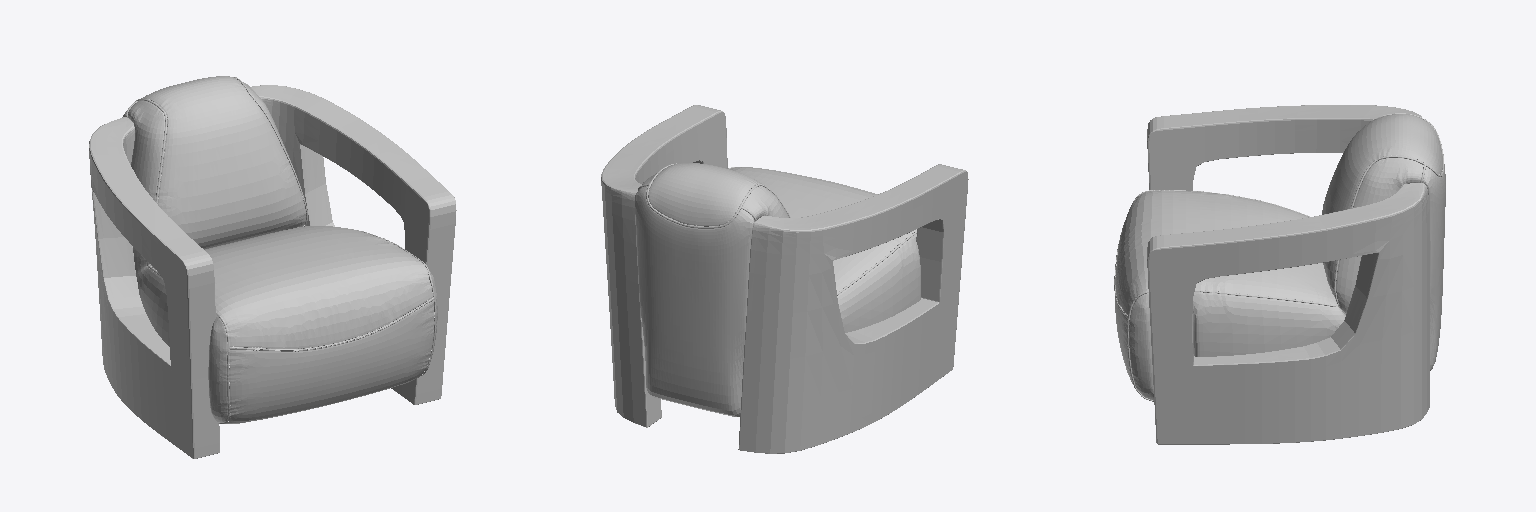
3 views of the same model, side by side, from view 1: azimuth 30°, elevation 25°; view 2: azimuth 150°, elevation 25°; view 3: azimuth 270°, elevation 25° (orthographic).
Parts seen in each view (by area): view 1: objheadusOBJexport03, objzzzz; view 2: objzzzz, objheadusOBJexport03; view 3: objzzzz, objheadusOBJexport03.
Part boxes in pixels (bbox=[...]): objheadusOBJexport03: bbox=[123, 76, 437, 423]; objzzzz: bbox=[89, 85, 456, 458]; objzzzz: bbox=[601, 105, 968, 453]; objheadusOBJexport03: bbox=[635, 163, 920, 416]; objzzzz: bbox=[1147, 105, 1429, 444]; objheadusOBJexport03: bbox=[1114, 113, 1445, 401].
Bounding box in the file's own units: 804 × 726 × 851.